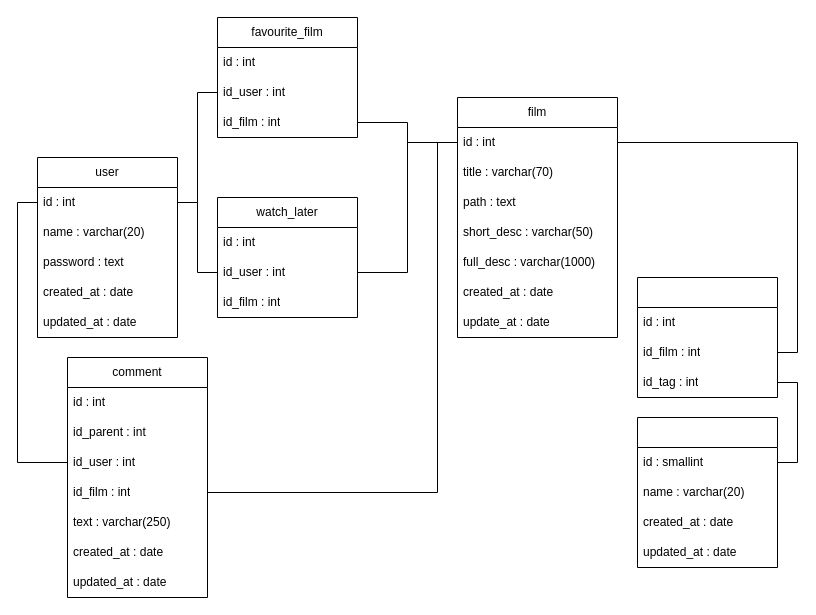
This 816x615 diagram has some shape labels left out. The shapes that lost their labels are listed below. From the top down, each one's box as (x1, y1, x2, y2) in pixels, then its label:
(636, 276, 778, 398): film_tag
(636, 416, 778, 568): tag
